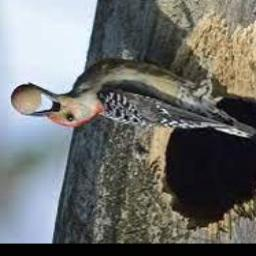Woodpecker: (21, 58, 256, 140)
